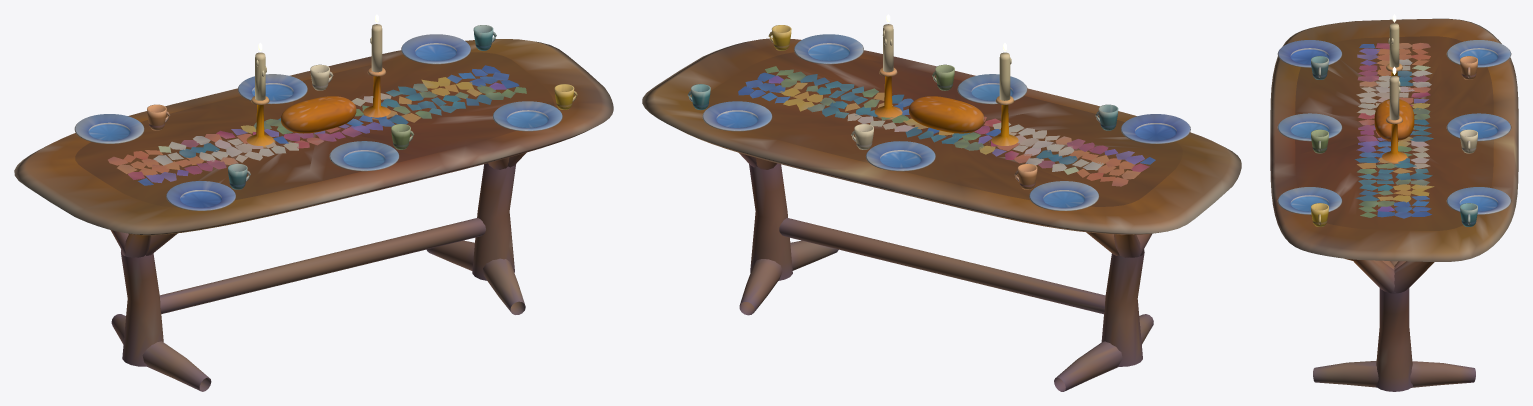
Rendered from yemek_masasi.glb.
3 views of the same model, side by side, from view 1: azimuth 30°, elevation 25°; view 2: azimuth 150°, elevation 25°; view 3: azimuth 270°, elevation 25° (orthographic). The views are drawn at different scales.
Visible parts, largest first — view 1: yemek_masasi_LOD0; view 2: yemek_masasi_LOD0; view 3: yemek_masasi_LOD0.
Boxes of the visible parts, x1,y1,x2,y2 form: yemek_masasi_LOD0: [14, 14, 613, 391]; yemek_masasi_LOD0: [642, 14, 1241, 391]; yemek_masasi_LOD0: [1270, 14, 1518, 391].
Size of what is drawn, in the model's own units: 2.32 by 1.2 by 1.
